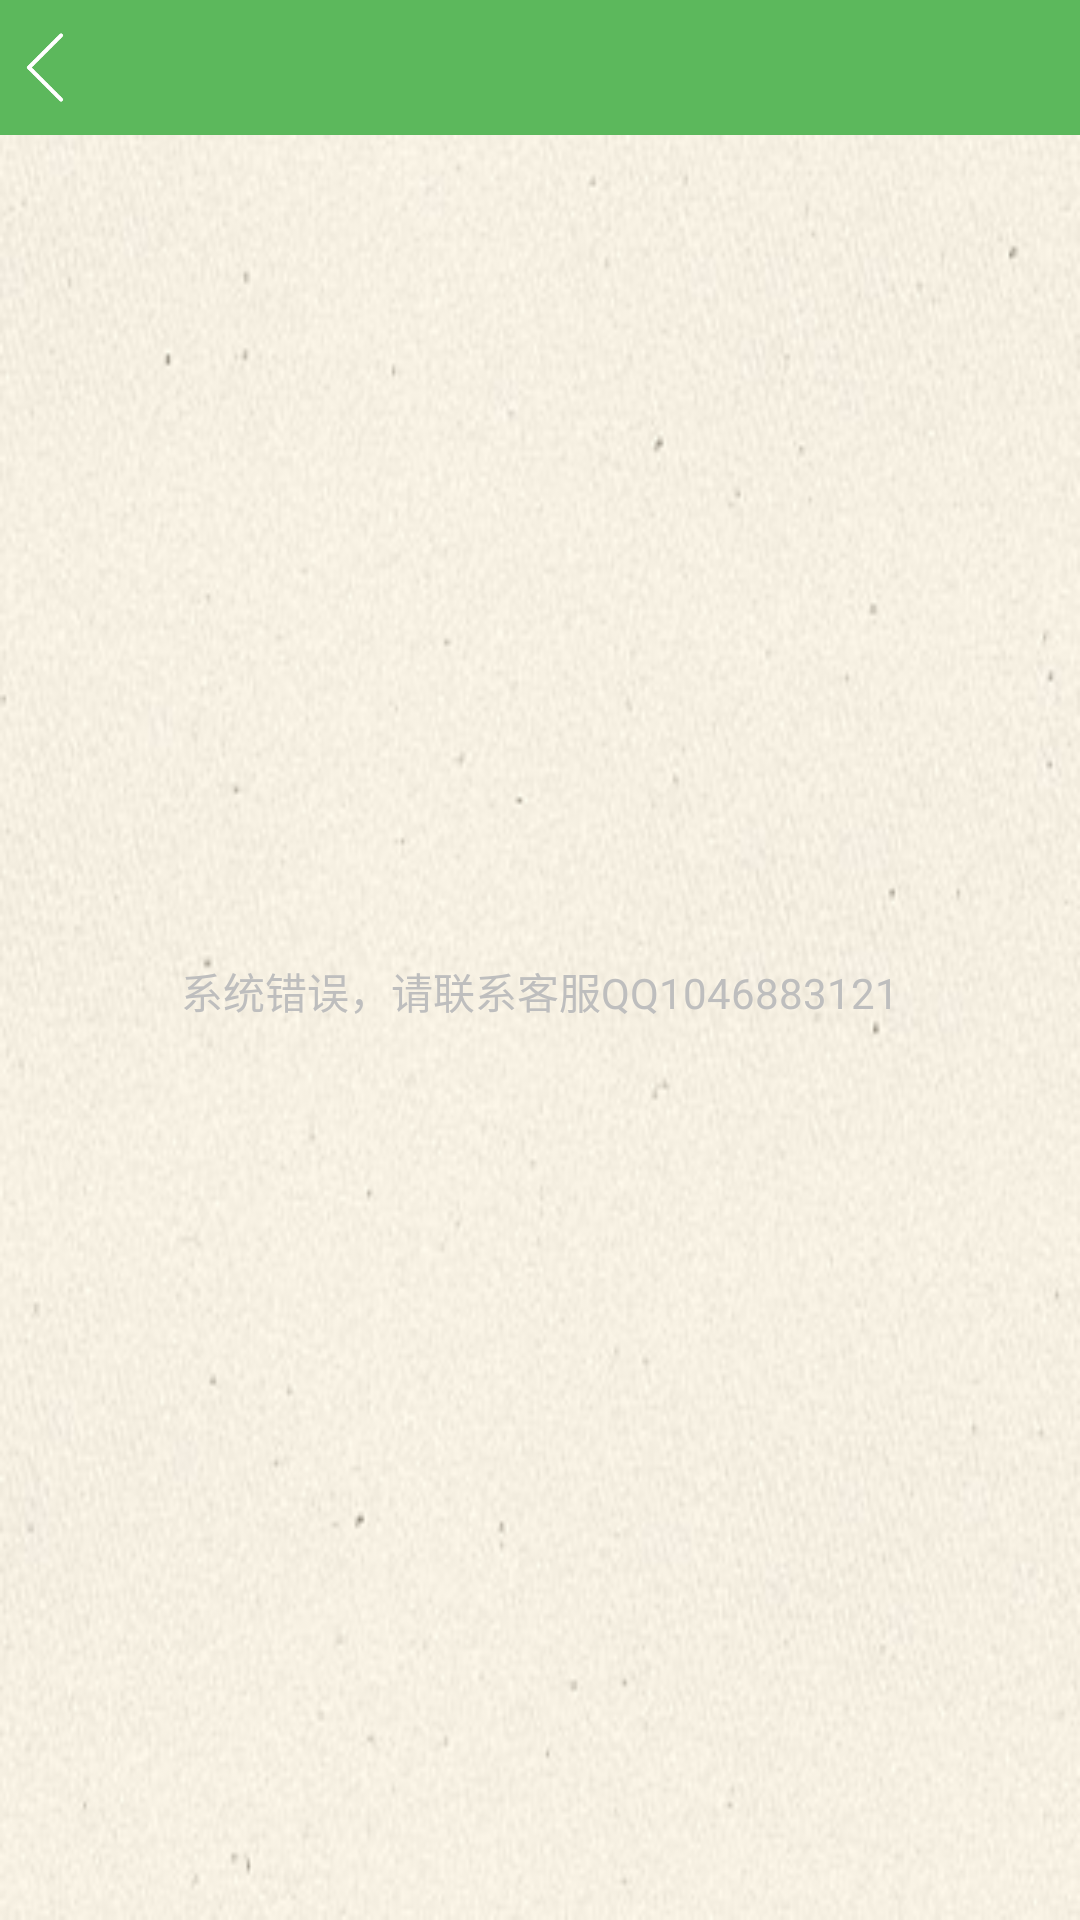

Icons on this 1080×1920 Android screen, each with its box as (x1, y1, x2, y2):
back: (27, 33, 63, 102)
